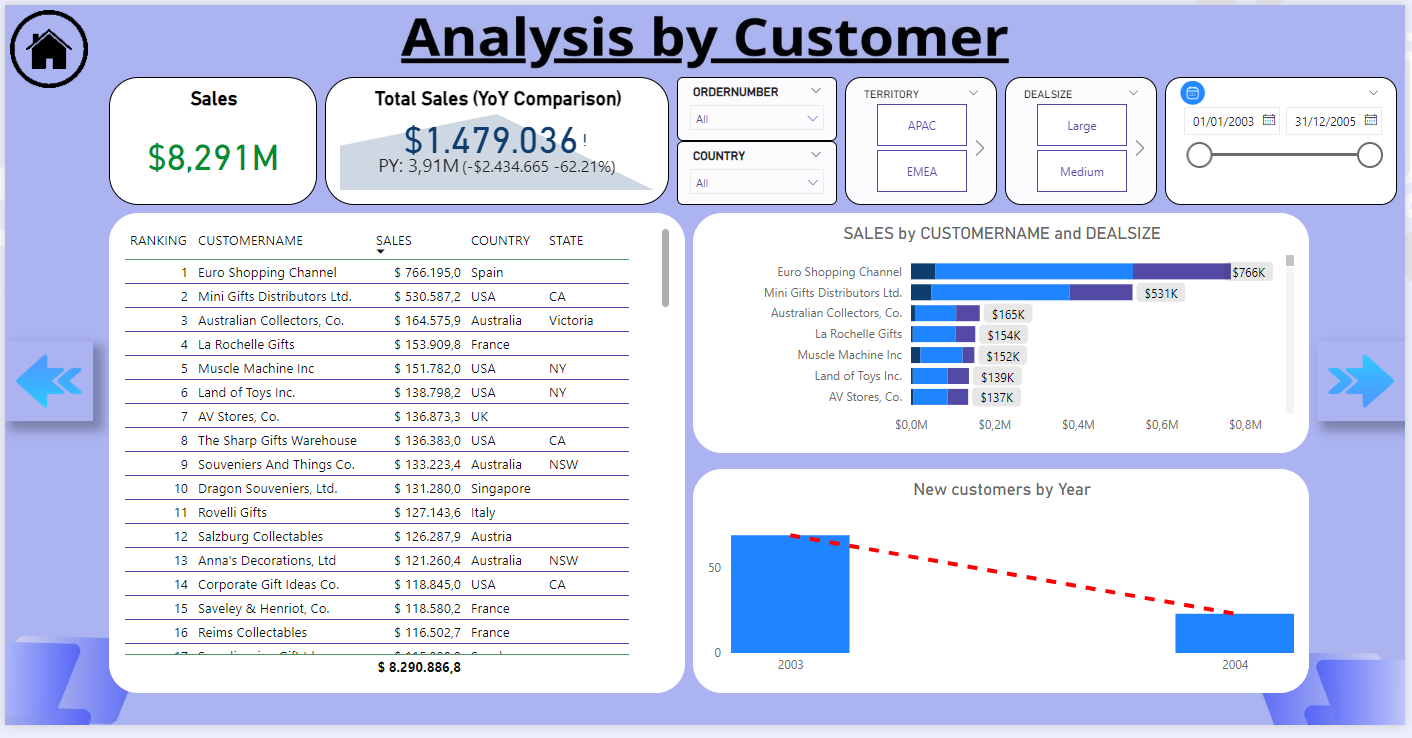

The page's visual inventory and layout, read from the dashboard file:
{"tool":"powerbi","page":{"name":"Analysis by Customer","canvas":[1400,720],"ordinal":4},"visuals":[{"type":"slicer","fields":{"Values":["Dim_Calendar.Date"]},"box":[1160,72,232,128],"z":0},{"type":"image","box":[1168,64,40,48],"z":1000},{"type":"barChart","title":"SALES by CUSTOMERNAME and DEALSIZE","fields":{"Category":["Dim_Customer.CUSTOMERNAME"],"Y":["Measure.002 $ Total_Sales"],"Series":["Dim_DealSize.DEALSIZE"]},"box":[688,208,616,240],"z":2000},{"type":"image","box":[0,0,88,88],"z":3000},{"type":"image","box":[1312,336,88,80],"z":4000},{"type":"image","box":[0,336,88,80],"z":5000},{"type":"tableEx","fields":{"Values":["Measure.020 $ Customer_Ranking","Dim_Customer.CUSTOMERNAME","Measure.002 $ Total_Sales","Dim_Customer.COUNTRY","Dim_Customer.STATE"]},"box":[104,208,576,480],"z":6000},{"type":"slicer","fields":{"Values":["Dim_Customer.COUNTRY"]},"box":[672,136,160,64],"z":7000},{"type":"slicer","fields":{"Values":["Dim_DealSize.DEALSIZE"]},"box":[1000,72,152,128],"z":8000},{"type":"slicer","fields":{"Values":["Dim_Customer.TERRITORY"]},"box":[840,72,152,128],"z":9000},{"type":"cardVisual","title":"Sales","fields":{"Data":["Measure.002 $ Total_Ventas"]},"box":[104,72,208,128],"z":10000},{"type":"slicer","fields":{"Values":["Fact_Sales.ORDERNUMBER"]},"box":[672,72,160,64],"z":11000},{"type":"kpi","title":"Total Sales (YoY Comparison)","fields":{"Indicator":["Measure.002 $ Total_Sales"],"Goal":["Measure.022 $ Total_Sales_PY"],"TrendLine":["Dim_Calendar.Year"]},"box":[320,72,344,128],"z":12000},{"type":"clusteredColumnChart","title":"New customers by Year","fields":{"Category":["Dim_Calendar.Year"],"Y":["Measure.018 $ New_Customers_Per_Year"]},"box":[688,464,616,224],"z":13000}]}

Visuals, with their boxes in screenshot pixels (x1, y1, x2, y2), scaled from the page's 1400x720 canvas onto the 1412x738 screenshot:
slicer - Dim_Calendar.Date: x1=1170 y1=74 x2=1404 y2=205
image: x1=1178 y1=66 x2=1218 y2=115
"SALES by CUSTOMERNAME and DEALSIZE" barChart: x1=694 y1=213 x2=1315 y2=459
image: x1=0 y1=0 x2=89 y2=90
image: x1=1323 y1=344 x2=1411 y2=426
image: x1=0 y1=344 x2=89 y2=426
tableEx - Measure.020 $ Customer_Ranking x Dim_Customer.CUSTOMERNAME: x1=105 y1=213 x2=686 y2=705
slicer - Dim_Customer.COUNTRY: x1=678 y1=139 x2=839 y2=205
slicer - Dim_DealSize.DEALSIZE: x1=1009 y1=74 x2=1162 y2=205
slicer - Dim_Customer.TERRITORY: x1=847 y1=74 x2=1001 y2=205
"Sales" cardVisual: x1=105 y1=74 x2=315 y2=205
slicer - Fact_Sales.ORDERNUMBER: x1=678 y1=74 x2=839 y2=139
"Total Sales (YoY Comparison)" kpi: x1=323 y1=74 x2=670 y2=205
"New customers by Year" clusteredColumnChart: x1=694 y1=476 x2=1315 y2=705
